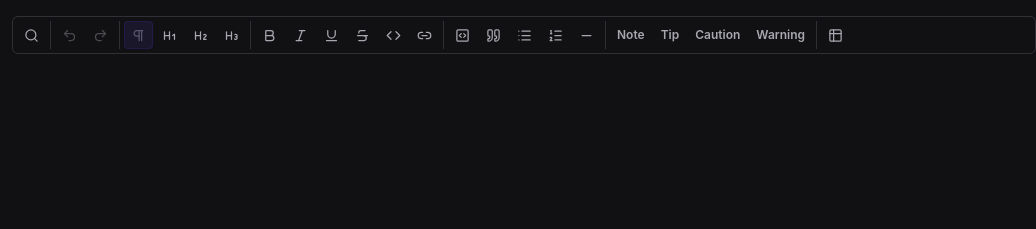
Test: topic search panel › shows no matches, resets stale matches when query changes, and treats metacharacters literally
Click the button named "Find and replace". click: (32, 35)
box: [17,21,46,49]
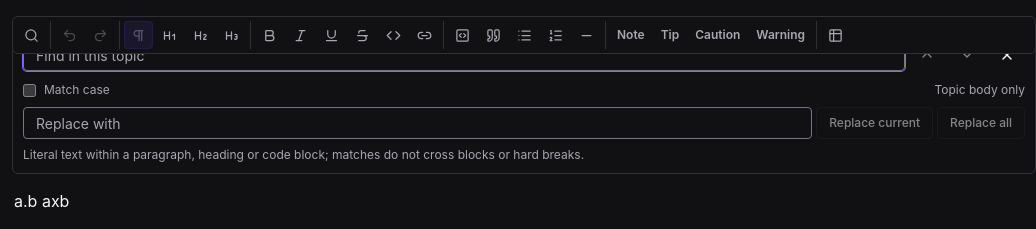
Type "a.b" into the field labelled "Find in this topic". click: (464, 55)
box: [23,39,905,71]
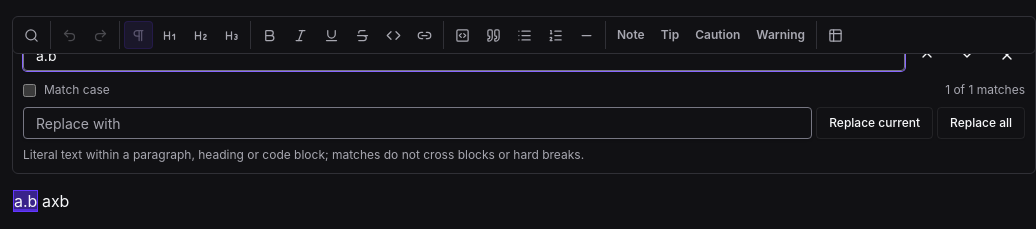
Expected: the message reads "1 of 1 matches", [945,82,1025,97]
Replace the text in the field named "Find in this topic" with "missing". click: (464, 55)
box: [23,39,905,71]
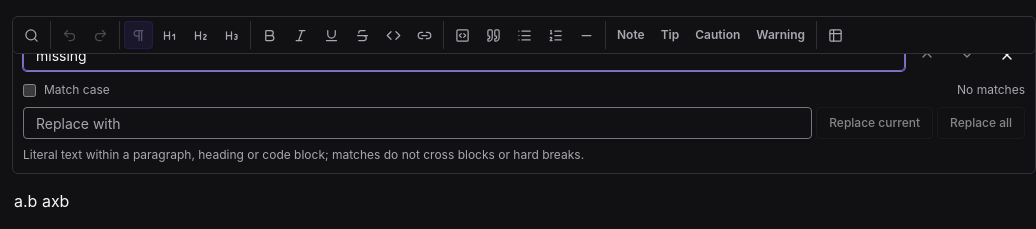
Expected: the button named "Next match" is disabled, [949,37,985,73]
Expected: the button "Replace all" is disabled, [937,107,1025,139]
Expected: the message reads "No matches", [957,82,1025,97]
